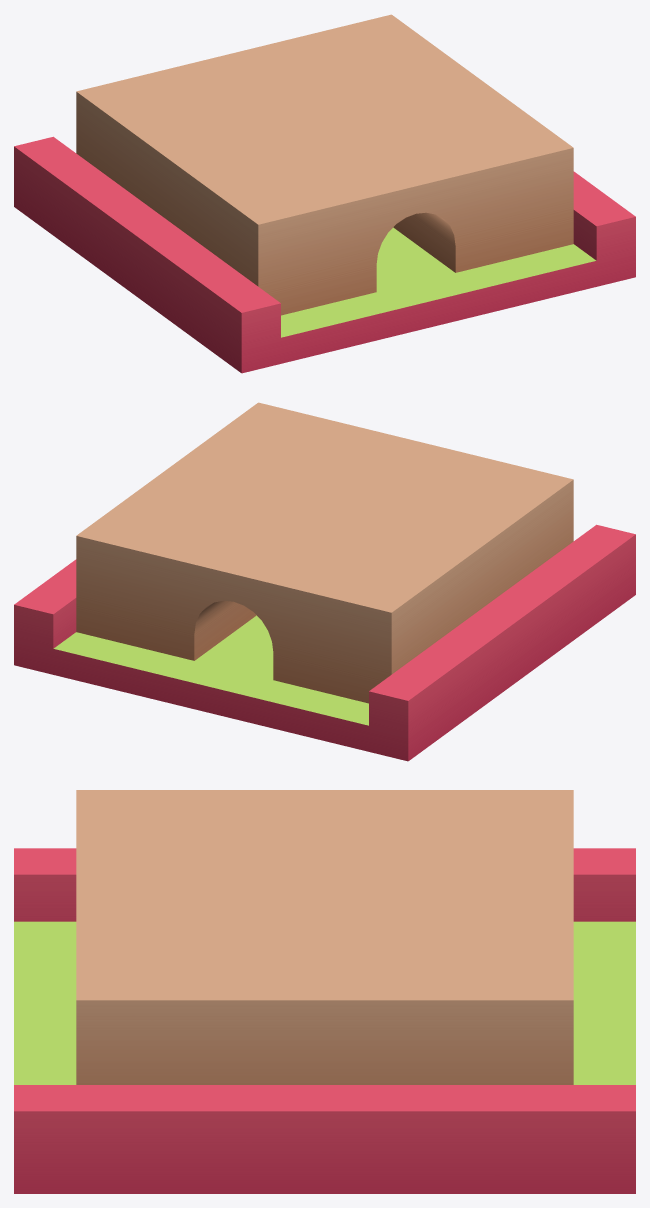
Rendered from tunnel-narrow.fbx.
3 renders of one model, top to bottom at view 1: azimuth 30°, elevation 25°; view 2: azimuth 150°, elevation 25°; view 3: azimuth 270°, elevation 25°, orthographic. The views are drawn at different scales.
Parts seen in each view (by area): view 1: tunnel_narrow; view 2: tunnel_narrow; view 3: tunnel_narrow.
Part boxes in pixels (bbox=[...]): tunnel_narrow: bbox=[14, 14, 635, 373]; tunnel_narrow: bbox=[14, 402, 635, 761]; tunnel_narrow: bbox=[14, 790, 635, 1193].
Bounding box in the file's own units: 99.99 × 29.66 × 99.99.
